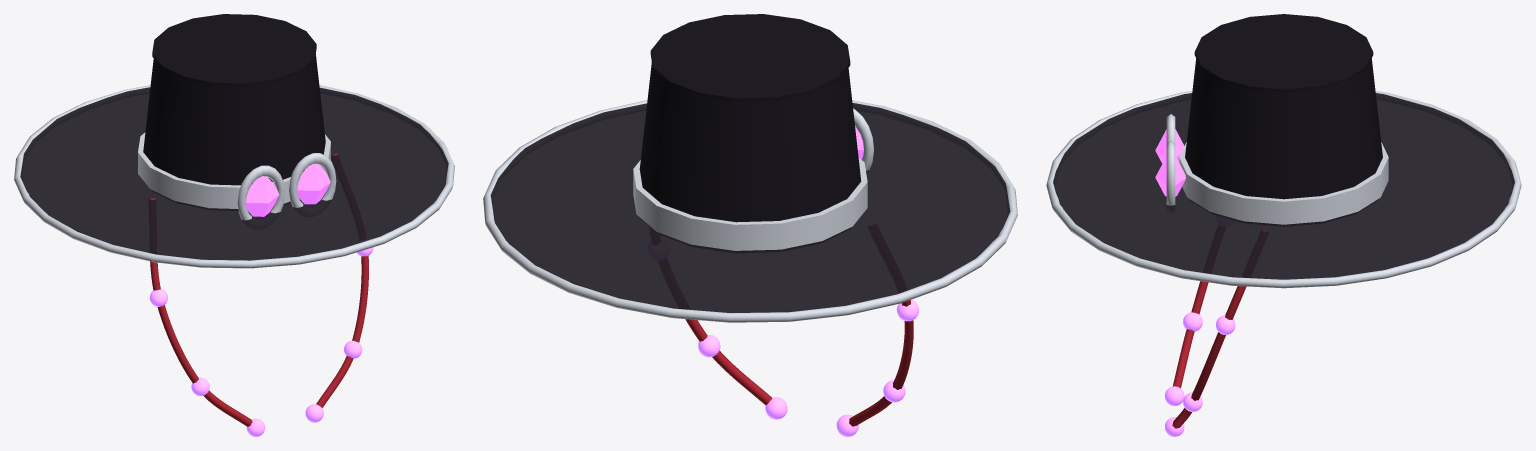
File: hat_eqko2.glb
The picture shows the model from 3 angles, left to right: view 1: azimuth 30°, elevation 25°; view 2: azimuth 150°, elevation 25°; view 3: azimuth 270°, elevation 25°; orthographic projection. The views are drawn at different scales.
Size of the model in its own units: 3.78 by 3.24 by 3.78.
